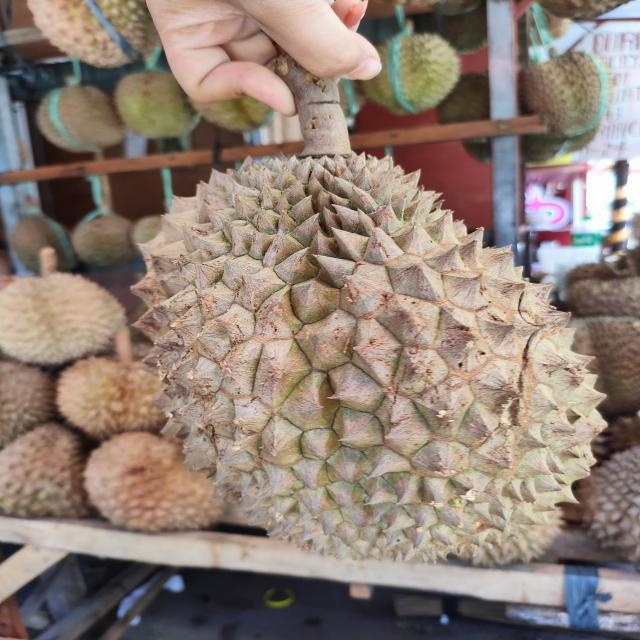mature: (131, 148, 611, 572)
